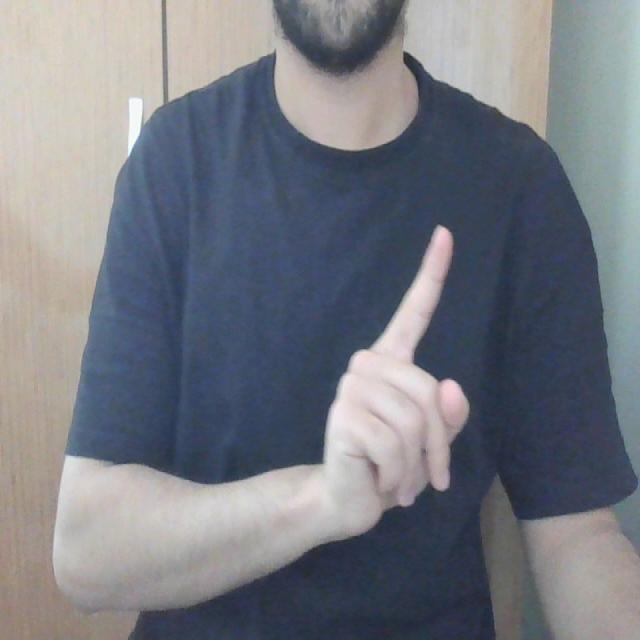Hayir: (318, 164, 475, 567)
